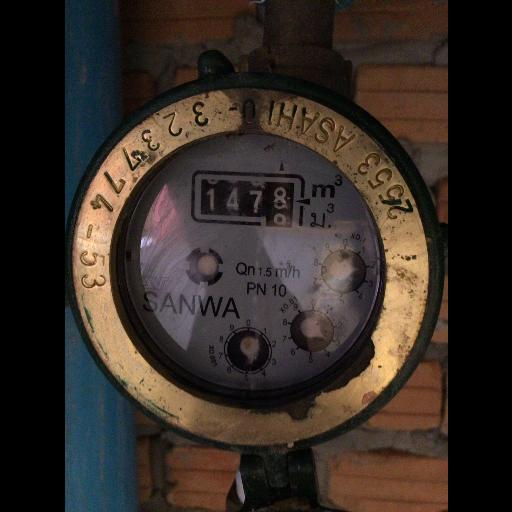1: (200, 179, 222, 215)
4: (222, 180, 243, 216)
7: (244, 181, 266, 217)
8: (268, 183, 291, 228)
border_water_meter_number: (189, 171, 311, 230)
